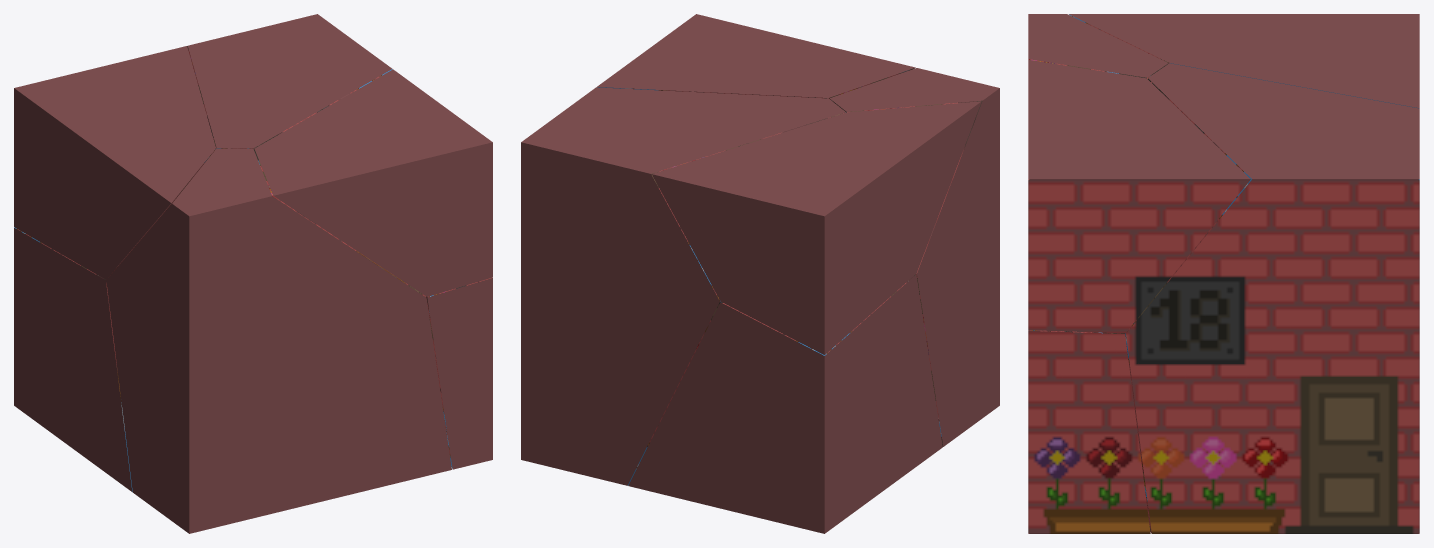
Rendered from BrickBuildingRed128x128_Ground03_break.fbx.
The picture shows the model from 3 angles, left to right: view 1: azimuth 30°, elevation 25°; view 2: azimuth 150°, elevation 25°; view 3: azimuth 270°, elevation 25°; orthographic projection. The views are drawn at different scales.
Parts seen in each view (by area): view 1: Ground03Break02, Ground03Break03, Ground03Break01, Ground03Break06, Ground03Break04, Ground03Break05; view 2: Ground03Break04, Ground03Break01, Ground03Break06, Ground03Break02, Ground03Break03; view 3: Ground03Break04, Ground03Break03, Ground03Break05, Ground03Break01, Ground03Break02.
Part boxes in pixels (x1,y1,x2,y2): Ground03Break02: (106, 148, 451, 533); Ground03Break03: (254, 69, 492, 296); Ground03Break01: (14, 46, 215, 279); Ground03Break06: (14, 227, 145, 491); Ground03Break04: (146, 14, 392, 232); Ground03Break05: (426, 277, 492, 469); Ground03Break04: (521, 87, 845, 485); Ground03Break01: (651, 101, 981, 355); Ground03Break06: (628, 274, 942, 533); Ground03Break02: (829, 68, 999, 446); Ground03Break03: (597, 14, 915, 98); Ground03Break04: (1125, 63, 1419, 533); Ground03Break03: (1028, 59, 1250, 333); Ground03Break05: (1028, 330, 1150, 533); Ground03Break01: (1069, 14, 1419, 108); Ground03Break02: (1028, 14, 1168, 179).
Bounding box in the file's own units: 100 × 100 × 100.
Materials: 1 (1 with a texture image).
